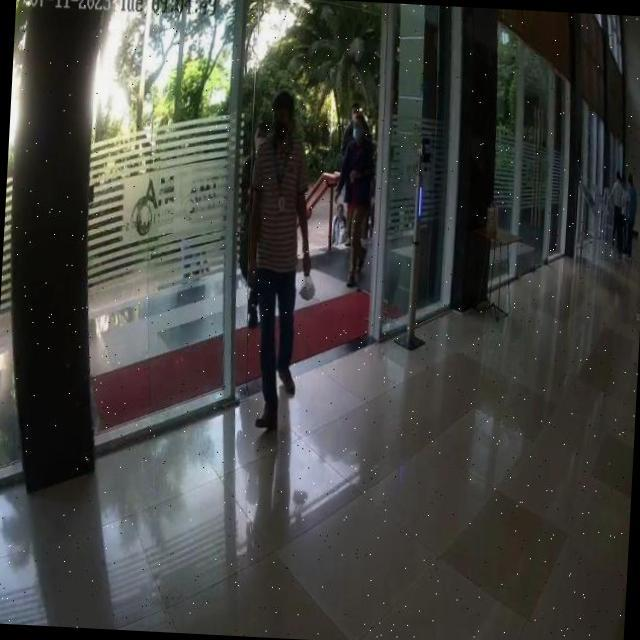person: (236, 90, 315, 433), (334, 112, 376, 292)
